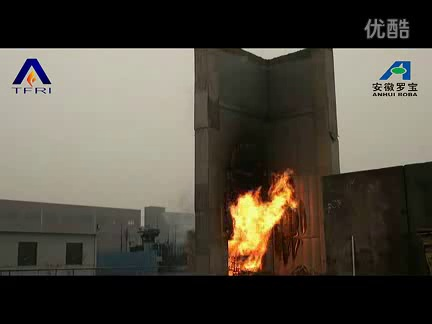fire: (226, 165, 304, 276)
